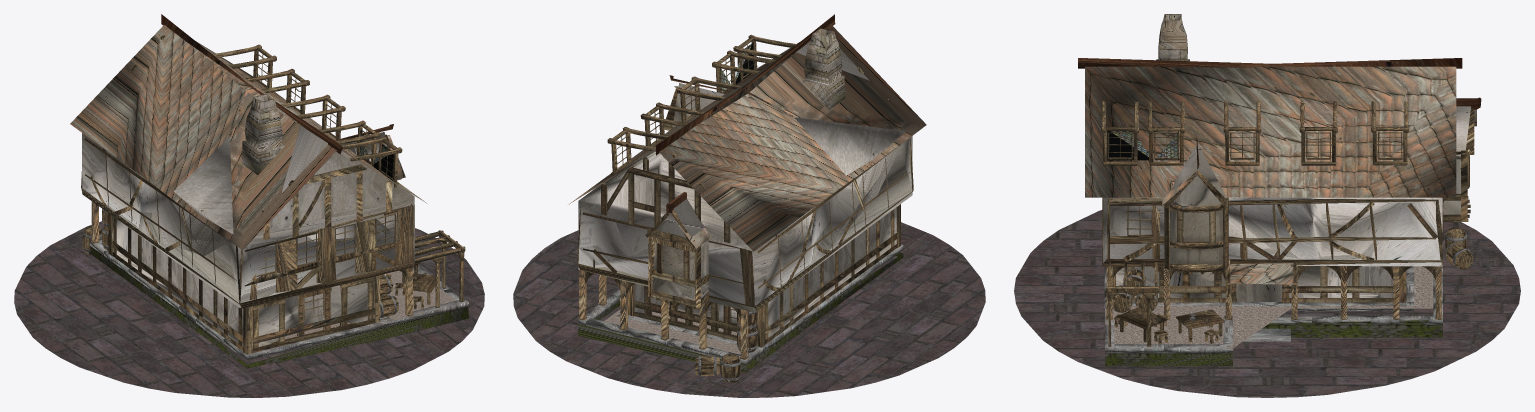
File: tavern.glb
3 renders of one model, left to right at view 1: azimuth 30°, elevation 25°; view 2: azimuth 150°, elevation 25°; view 3: azimuth 270°, elevation 25°, orthographic. The views are drawn at different scales.
Parts seen in each view (by area): view 1: Circle_Stone brick wall_0, Cube.002_roof_09_0, Cube_Material_0, Cube.251_Material.010_0, Cube.164_Material.002_0, Cube.200_Material.011_0, Cube.257_Material.008_0, Cube.199_Material.021_0, Cube.001_Old stone wall moss_0, Cube.046_Stone_0, Cube.604_Stone Wall Flag Floor_0, Cube.001_Ground Peables 01_0 (+3 smaller); view 2: Circle_Stone brick wall_0, Cube.002_roof_09_0, Cube_Material_0, Cube.251_Material.010_0, Cube.257_Material.008_0, Cube.164_Material.002_0, Cube.200_Material.011_0, Cube.199_Material.021_0, Cube.046_Stone_0, Cube.001_Old stone wall moss_0, Cube.139_Material.003_0, Cube.604_Stone Wall Flag Floor_0 (+5 smaller); view 3: Cube.002_roof_09_0, Circle_Stone brick wall_0, Cube_Material_0, Cube.251_Material.010_0, Cube.257_Material.008_0, Cube.164_Material.002_0, Cube.046_Stone_0, Cube.001_Ground Peables 01_0, Cube.001_Old stone wall moss_0, Cube.199_Material.021_0, Cube.004_Material.005_0, Cube.200_Material.011_0 (+6 smaller).
Boxes of the visible parts, x1,y1,x2,y2 form: Circle_Stone brick wall_0: (14,221,484,397); Cube.002_roof_09_0: (70,25,426,249); Cube_Material_0: (82,125,414,307); Cube.251_Material.010_0: (82,175,465,354); Cube.164_Material.002_0: (81,138,416,308); Cube.200_Material.011_0: (113,216,373,346); Cube.257_Material.008_0: (105,35,464,288); Cube.199_Material.021_0: (213,44,402,187); Cube.001_Old stone wall moss_0: (90,246,468,368); Cube.046_Stone_0: (90,238,468,360); Cube.604_Stone Wall Flag Floor_0: (241,94,284,175); Cube.001_Ground Peables 01_0: (276,269,455,341); Circle_Stone brick wall_0: (513,222,985,397); Cube.002_roof_09_0: (568,25,926,251); Cube_Material_0: (578,41,912,312); Cube.251_Material.010_0: (578,167,900,382); Cube.257_Material.008_0: (601,44,888,308); Cube.164_Material.002_0: (577,138,913,311); Cube.200_Material.011_0: (634,207,896,337); Cube.199_Material.021_0: (607,34,796,176); Cube.046_Stone_0: (578,244,903,364); Cube.001_Old stone wall moss_0: (578,252,903,372); Cube.139_Material.003_0: (652,199,708,300); Cube.604_Stone Wall Flag Floor_0: (802,28,845,110); Cube.002_roof_09_0: (1085,66,1456,197); Circle_Stone brick wall_0: (1014,210,1520,397); Cube_Material_0: (1103,197,1442,266); Cube.251_Material.010_0: (1106,202,1473,346); Cube.257_Material.008_0: (1106,108,1474,322); Cube.164_Material.002_0: (1102,197,1443,266); Cube.046_Stone_0: (1104,265,1442,353); Cube.001_Ground Peables 01_0: (1105,266,1433,348); Cube.001_Old stone wall moss_0: (1105,320,1442,366); Cube.199_Material.021_0: (1101,101,1408,165); Cube.004_Material.005_0: (1170,143,1225,264); Cube.200_Material.011_0: (1116,266,1393,301).
Size of the model in its own units: 5.03 by 2.83 by 5.03.
20 materials, 19 textured.
